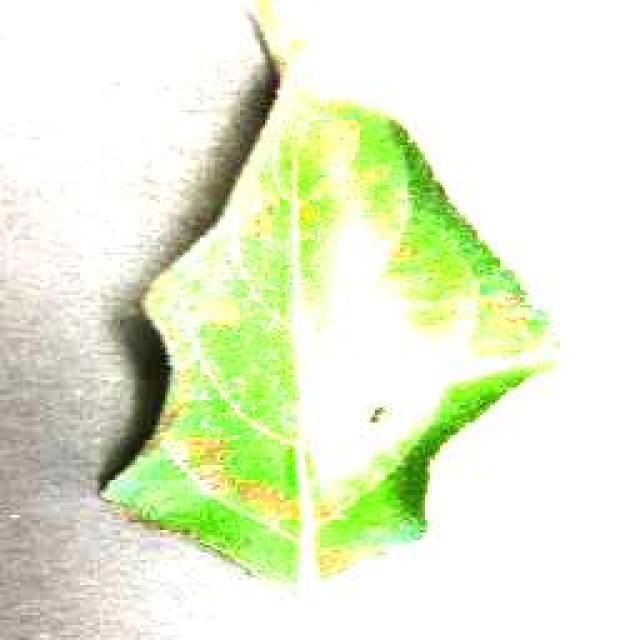Apple___Cedar_apple_rust: (96, 74, 564, 606)
